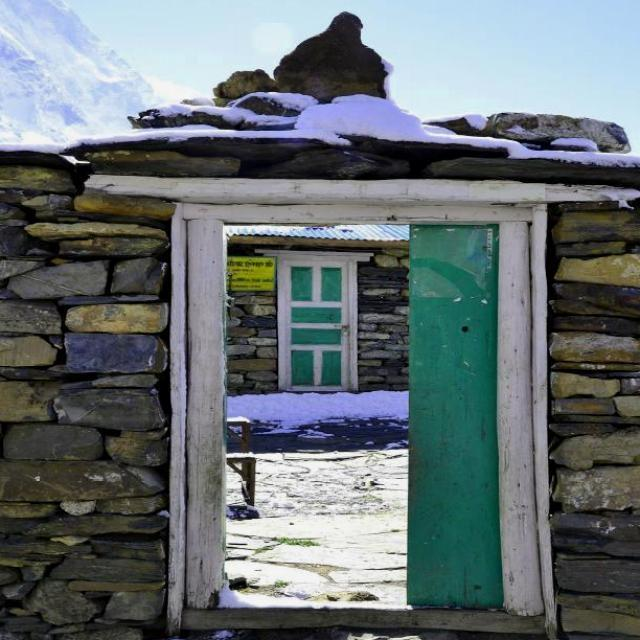door: (275, 252, 358, 392)
